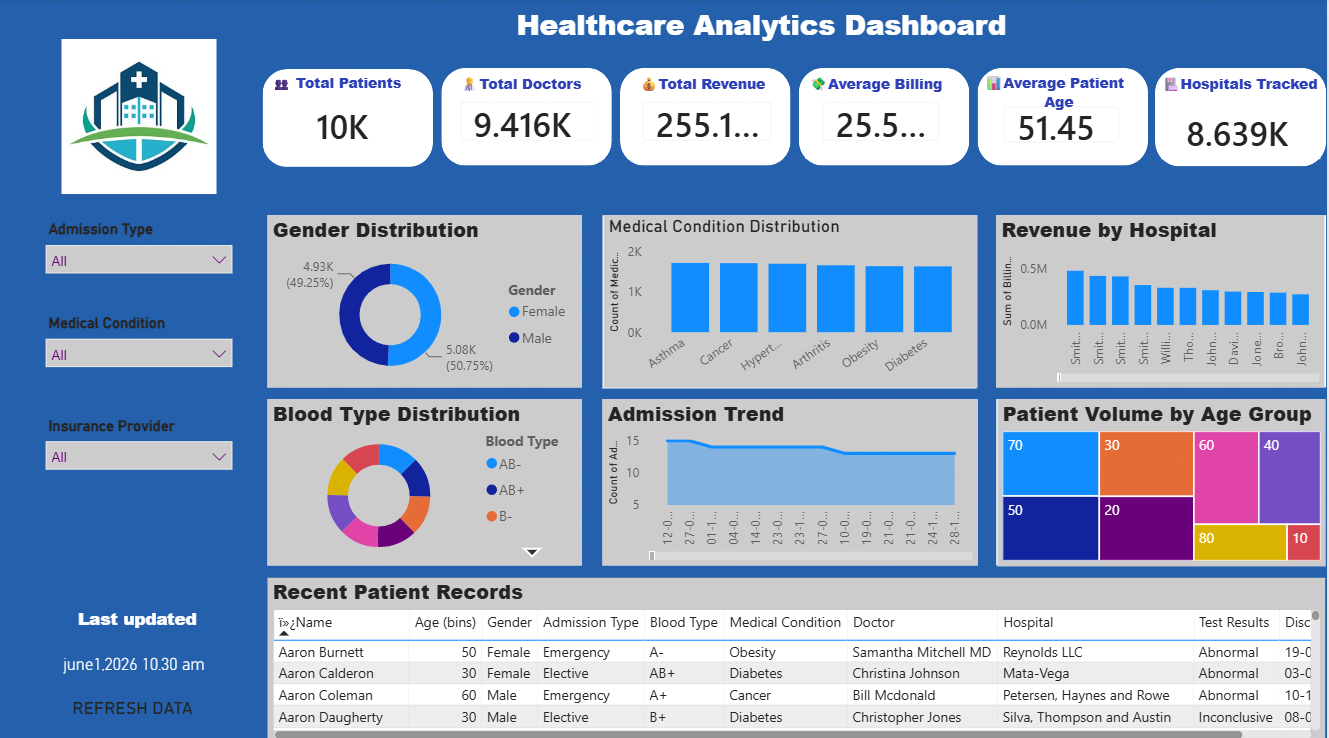

Layout of this report page (visuals, bound fields, positions):
{"tool":"powerbi","page":{"name":"Page 1","canvas":[1280,720],"ordinal":0},"visuals":[{"type":"shape","box":[253.9,67.2,164.7,94.7],"z":0},{"type":"shape","box":[426.2,65.9,164.7,94.7],"z":1000},{"type":"shape","box":[598.4,65.9,164.7,94.7],"z":2000},{"type":"shape","box":[770.7,65.9,164.7,94.7],"z":3000},{"type":"shape","box":[943,65.9,164.7,94.7],"z":4000},{"type":"shape","box":[1115,65.8,165.2,95.4],"z":5000},{"type":"textbox","box":[253.9,65.9,164.7,32.9],"z":6000},{"type":"cardVisual","fields":{"Data":["Count(healthcare_db healthcare_dataset_cleaned.Doctor)"]},"box":[426.8,82.3,164.7,72.7],"z":7000},{"type":"textbox","box":[439.1,67.2,142.7,31.6],"z":8000},{"type":"cardVisual","fields":{"Data":["Sum(healthcare_db healthcare_dataset_cleaned.Billing Amount)"]},"box":[603.8,82.3,159.2,72.7],"z":9000},{"type":"textbox","box":[603.8,67.2,159.2,31.6],"z":10000},{"type":"cardVisual","fields":{"Data":["Avg(healthcare_db healthcare_dataset_cleaned.Billing Amount)"]},"box":[776.9,82,147.2,72.4],"z":11000},{"type":"textbox","box":[763,67.2,179.8,46.7],"z":12000},{"type":"cardVisual","fields":{"Data":["Avg(healthcare_db healthcare_dataset_cleaned.Age)"]},"box":[952.3,86.4,146.8,70],"z":13000},{"type":"textbox","box":[935.9,65.9,179.8,48],"z":14000},{"type":"cardVisual","fields":{"Data":["Count(healthcare_db healthcare_dataset_cleaned.Hospital)"]},"box":[1116.4,95.4,163.9,64.5],"z":15000},{"type":"textbox","box":[1116.4,67.2,162.6,32.2],"z":16000},{"type":"shape","box":[258,208.6,303.3,166],"z":17000},{"type":"donutChart","title":"Gender Distribution","fields":{"Category":["healthcare_db healthcare_dataset_cleaned.Gender"],"Y":["CountNonNull(healthcare_db healthcare_dataset_cleaned.Gender)"]},"box":[258,208.6,303.3,166],"z":18000},{"type":"shape","box":[258,385.6,303.3,160.5],"z":19000},{"type":"donutChart","title":"Blood Type Distribution","fields":{"Category":["healthcare_db healthcare_dataset_cleaned.Blood Type"],"Y":["CountNonNull(healthcare_db healthcare_dataset_cleaned.Blood Type)"]},"box":[258,385.6,303.3,160.5],"z":20000},{"type":"shape","box":[581.8,208.6,360.9,167.4],"z":21000},{"type":"shape","box":[581.8,385.6,360.9,160.5],"z":22000},{"type":"clusteredColumnChart","title":"Medical Condition Distribution","fields":{"Category":["healthcare_db healthcare_dataset_cleaned.Medical Condition"],"Y":["CountNonNull(healthcare_db healthcare_dataset_cleaned.Medical Condition)"]},"box":[583.2,208.6,360.9,166],"z":23000},{"type":"areaChart","title":" Admission Trend","fields":{"Category":["healthcare_db healthcare_dataset_cleaned.Date of Admission"],"Y":["CountNonNull(healthcare_db healthcare_dataset_cleaned.Admission Type)"]},"box":[581.8,385.6,362.3,160.5],"z":24000},{"type":"shape","box":[961.9,208.6,318.4,166],"z":25000},{"type":"clusteredColumnChart","title":"Revenue by Hospital","fields":{"Category":["healthcare_db healthcare_dataset_cleaned.Hospital"],"Y":["Sum(healthcare_db healthcare_dataset_cleaned.Billing Amount)"]},"box":[961.9,208.6,317,166],"z":26000},{"type":"shape","box":[961.9,385.6,317,160.5],"z":27000},{"type":"treemap","title":"Patient Volume by Age Group","fields":{"Values":["CountNonNull(healthcare_db healthcare_dataset_cleaned.ï»¿Name)"],"Group":["healthcare_db healthcare_dataset_cleaned.Age (bins)"]},"box":[963.2,385.6,317,161.2],"z":28000},{"type":"tableEx","title":"Recent Patient Records","fields":{"Values":["healthcare_db healthcare_dataset_cleaned.ï»¿Name","healthcare_db healthcare_dataset_cleaned.Age (bins)","healthcare_db healthcare_dataset_cleaned.Gender","healthcare_db healthcare_dataset_cleaned.Admission Type","healthcare_db healthcare_dataset_cleaned.Blood Type","healthcare_db healthcare_dataset_cleaned.Medical Condition","healthcare_db healthcare_dataset_cleaned.Doctor","healthcare_db healthcare_dataset_cleaned.Hospital","healthcare_db healthcare_dataset_cleaned.Test Results","healthcare_db healthcare_dataset_cleaned.Discharge Date"]},"box":[257.9,558.9,1021,161.2],"z":29000},{"type":"slicer","fields":{"Values":["healthcare_db healthcare_dataset_cleaned.Admission Type"]},"box":[33.6,208.2,200.2,73.9],"z":30000},{"type":"slicer","fields":{"Values":["healthcare_db healthcare_dataset_cleaned.Medical Condition"]},"box":[33.6,299.6,200.2,76.6],"z":31000},{"type":"slicer","fields":{"Values":["healthcare_db healthcare_dataset_cleaned.Insurance Provider"]},"box":[33.6,397.7,200.2,95.4],"z":32000},{"type":"textbox","box":[33.8,546.5,200.3,117],"z":33000},{"type":"image","box":[33.8,38.6,200.3,149.6],"z":34000},{"type":"actionButton","title":"REFRESH DATA","box":[70,674.4,124.3,31.4],"z":35000},{"type":"textbox","box":[253.4,0,1025.5,48.3],"z":36000},{"type":"cardVisual","fields":{"Data":["CountNonNull(healthcare_db healthcare_dataset_cleaned.ï»¿Name)"]},"box":[276,87,143,67],"z":37000}]}

Visuals, with their boxes in screenshot pixels (x1, y1, x2, y2), scaled from the page's 1280x720 canvas onto the 1329x738 screenshot:
shape: BBox(264, 69, 435, 166)
shape: BBox(443, 68, 614, 165)
shape: BBox(621, 68, 792, 165)
shape: BBox(800, 68, 971, 165)
shape: BBox(979, 68, 1150, 165)
shape: BBox(1158, 67, 1328, 165)
textbox: BBox(264, 68, 435, 101)
cardVisual - Count(healthcare_db healthcare_dataset_cleaned.Doctor): BBox(443, 84, 614, 159)
textbox: BBox(456, 69, 604, 101)
cardVisual - Sum(healthcare_db healthcare_dataset_cleaned.Billing Amount): BBox(627, 84, 792, 159)
textbox: BBox(627, 69, 792, 101)
cardVisual - Avg(healthcare_db healthcare_dataset_cleaned.Billing Amount): BBox(807, 84, 959, 158)
textbox: BBox(792, 69, 979, 117)
cardVisual - Avg(healthcare_db healthcare_dataset_cleaned.Age): BBox(989, 89, 1141, 160)
textbox: BBox(972, 68, 1158, 117)
cardVisual - Count(healthcare_db healthcare_dataset_cleaned.Hospital): BBox(1159, 98, 1328, 164)
textbox: BBox(1159, 69, 1328, 102)
shape: BBox(268, 214, 583, 384)
"Gender Distribution" donutChart: BBox(268, 214, 583, 384)
shape: BBox(268, 395, 583, 560)
"Blood Type Distribution" donutChart: BBox(268, 395, 583, 560)
shape: BBox(604, 214, 979, 385)
shape: BBox(604, 395, 979, 560)
"Medical Condition Distribution" clusteredColumnChart: BBox(606, 214, 980, 384)
" Admission Trend" areaChart: BBox(604, 395, 980, 560)
shape: BBox(999, 214, 1328, 384)
"Revenue by Hospital" clusteredColumnChart: BBox(999, 214, 1328, 384)
shape: BBox(999, 395, 1328, 560)
"Patient Volume by Age Group" treemap: BBox(1000, 395, 1328, 560)
"Recent Patient Records" tableEx: BBox(268, 573, 1328, 737)
slicer - healthcare_db healthcare_dataset_cleaned.Admission Type: BBox(35, 213, 243, 289)
slicer - healthcare_db healthcare_dataset_cleaned.Medical Condition: BBox(35, 307, 243, 386)
slicer - healthcare_db healthcare_dataset_cleaned.Insurance Provider: BBox(35, 408, 243, 505)
textbox: BBox(35, 560, 243, 680)
image: BBox(35, 40, 243, 193)
"REFRESH DATA" actionButton: BBox(73, 691, 202, 723)
textbox: BBox(263, 0, 1328, 50)
cardVisual - CountNonNull(healthcare_db healthcare_dataset_cleaned.ï»¿Name): BBox(287, 89, 435, 158)
